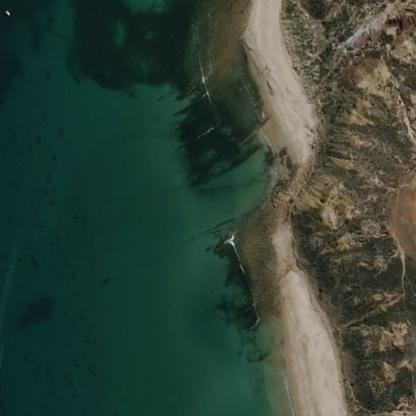ship: (5, 10, 10, 15)
